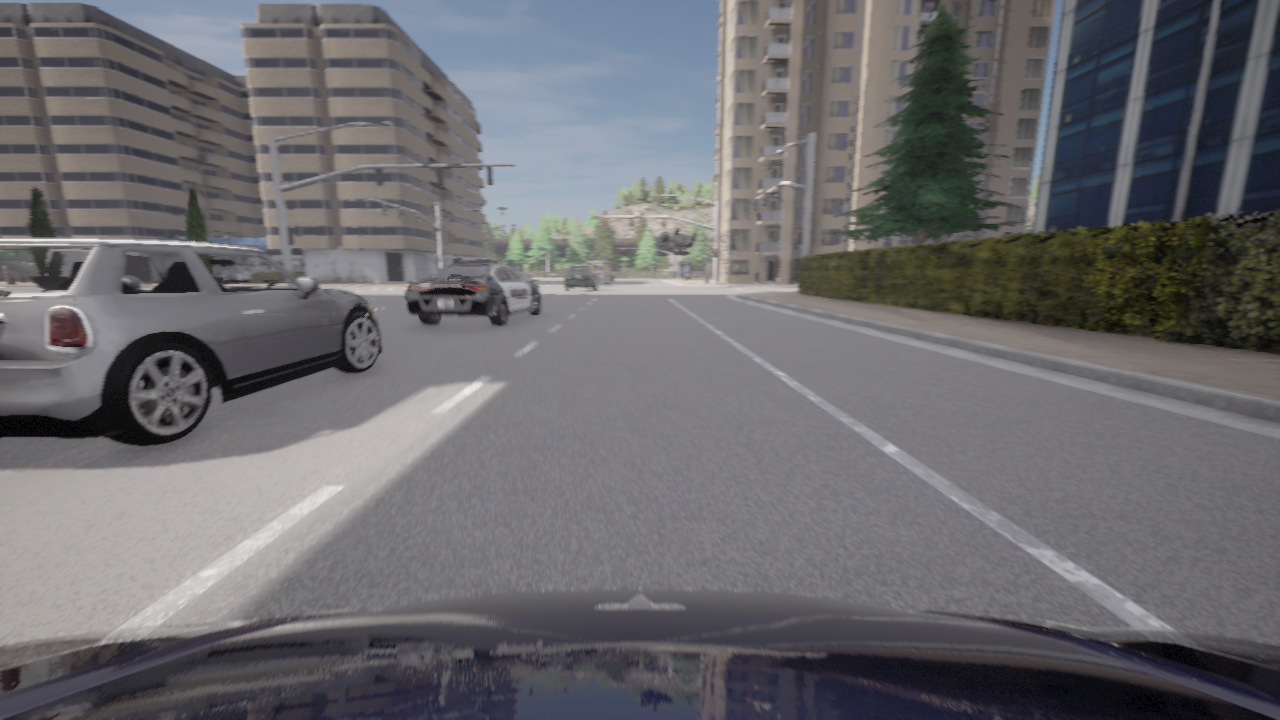cyclist: (0, 588, 1279, 719), (404, 260, 541, 325), (661, 226, 697, 255), (565, 265, 598, 290), (587, 261, 612, 284), (611, 272, 614, 281), (610, 278, 611, 282)
